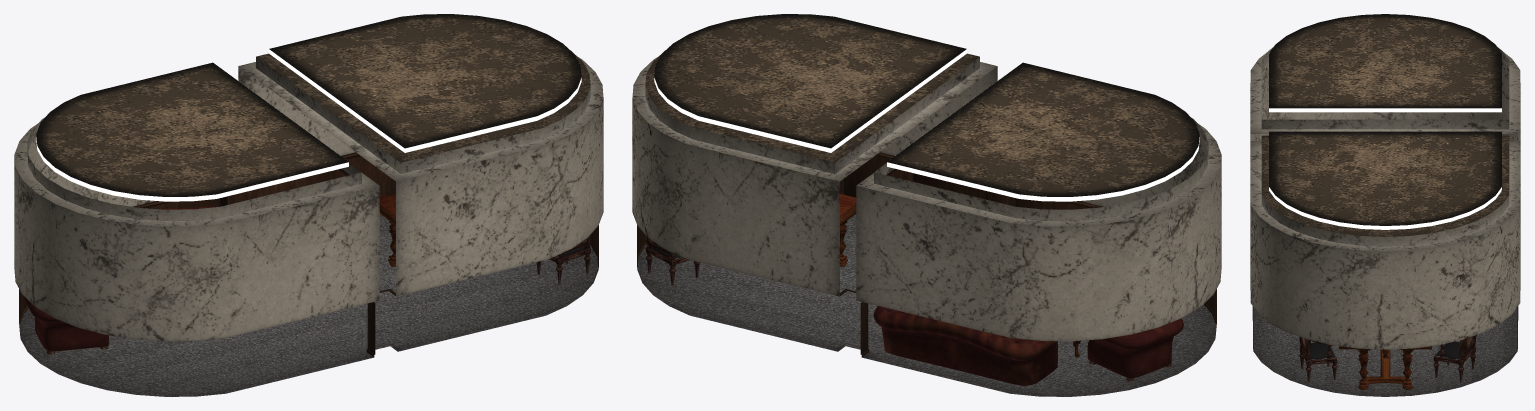
The model's file is Room_Low_RL.gltf.
3 views of the same model, side by side, from view 1: azimuth 30°, elevation 25°; view 2: azimuth 150°, elevation 25°; view 3: azimuth 270°, elevation 25° (orthographic). The views are drawn at different scales.
Parts seen in each view (by area): view 1: RoomShell, armchair01, chair01, Table02; view 2: RoomShell, Sofa01, armchair01, chair01, Table02; view 3: RoomShell, chair01, Table02.
Boxes of the visible parts, x1,y1,x2,y2 form: RoomShell: [14, 14, 603, 396]; armchair01: [22, 295, 109, 354]; chair01: [536, 234, 591, 284]; Table02: [379, 193, 395, 266]; RoomShell: [632, 14, 1221, 396]; Sofa01: [873, 306, 1057, 386]; armchair01: [1087, 318, 1183, 381]; chair01: [645, 235, 700, 286]; Table02: [840, 194, 856, 266]; RoomShell: [1250, 14, 1520, 396]; chair01: [1299, 335, 1476, 382]; Table02: [1339, 346, 1431, 389].
Size of the model in its own units: 9.95 by 3.37 by 4.98.
Materials: 11 (10 with a texture image).
